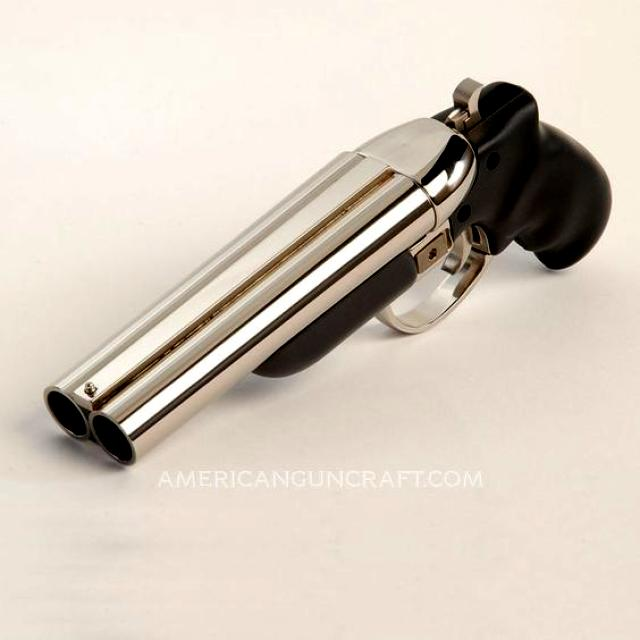shotgun: (42, 77, 620, 474)
